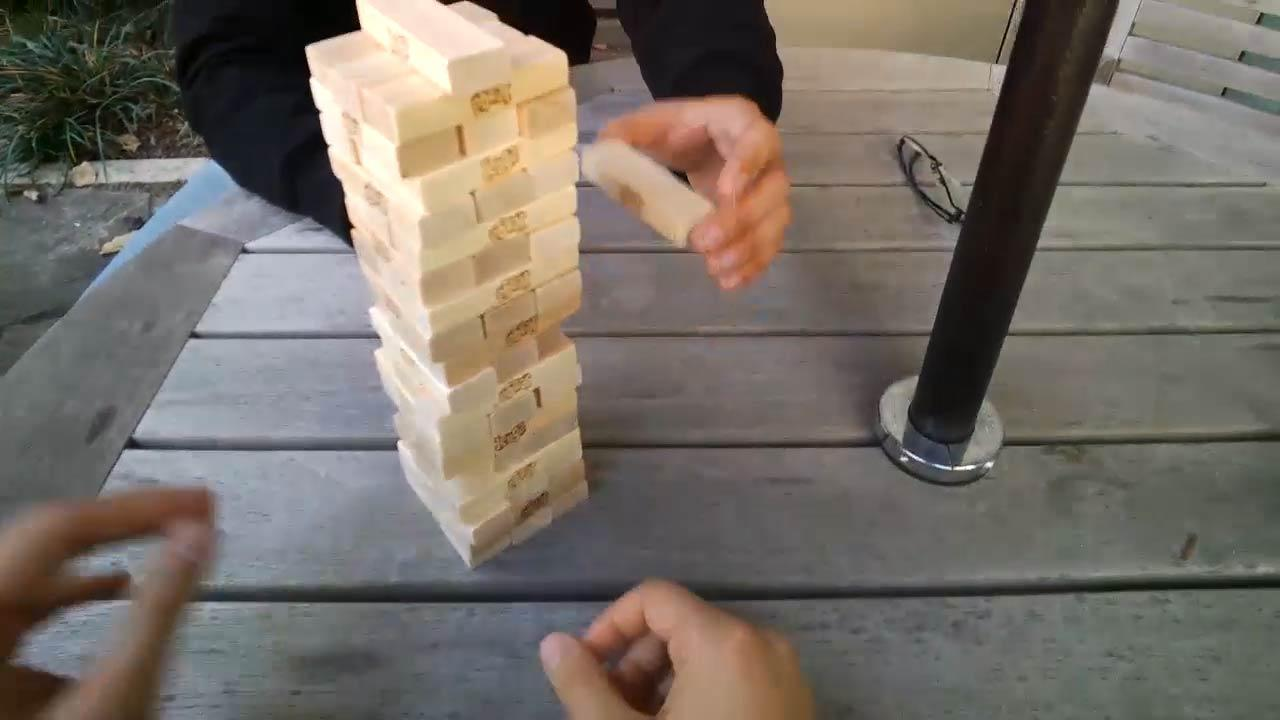hand: (1, 483, 213, 720), (525, 574, 820, 720), (594, 89, 793, 290)
